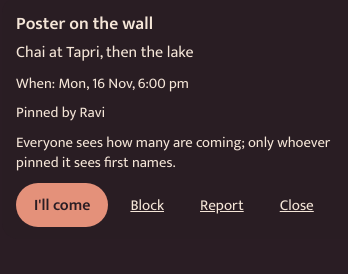
PosterCard: Main aaunga/aaungi › says so when it did not go through, and when it was too many taps
The image size is (348, 274).
Click the button "I'll come" at {"x": 62, "y": 205}, box x1=16 y1=183 x2=108 y2=227
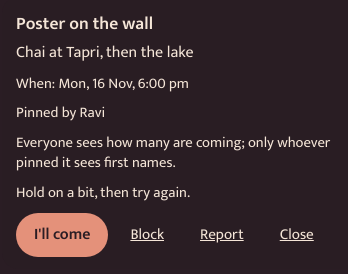
Now the text "Hold on a bit, then try again." is shown, box x1=16 y1=180 x2=190 y2=205
Click the button "I'll come" at {"x": 62, "y": 235}, box x1=16 y1=213 x2=108 y2=257
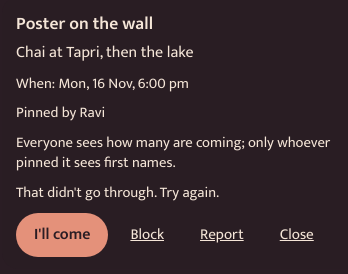
Now the text "That didn't go through. Try again." is shown, box x1=16 y1=180 x2=219 y2=205
Click the button "I'll come" at {"x": 62, "y": 235}, box x1=16 y1=213 x2=108 y2=257
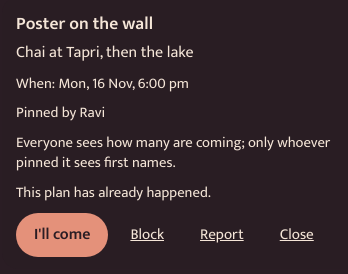
Now the text "This plan has already happened." is shown, box x1=16 y1=180 x2=211 y2=205
